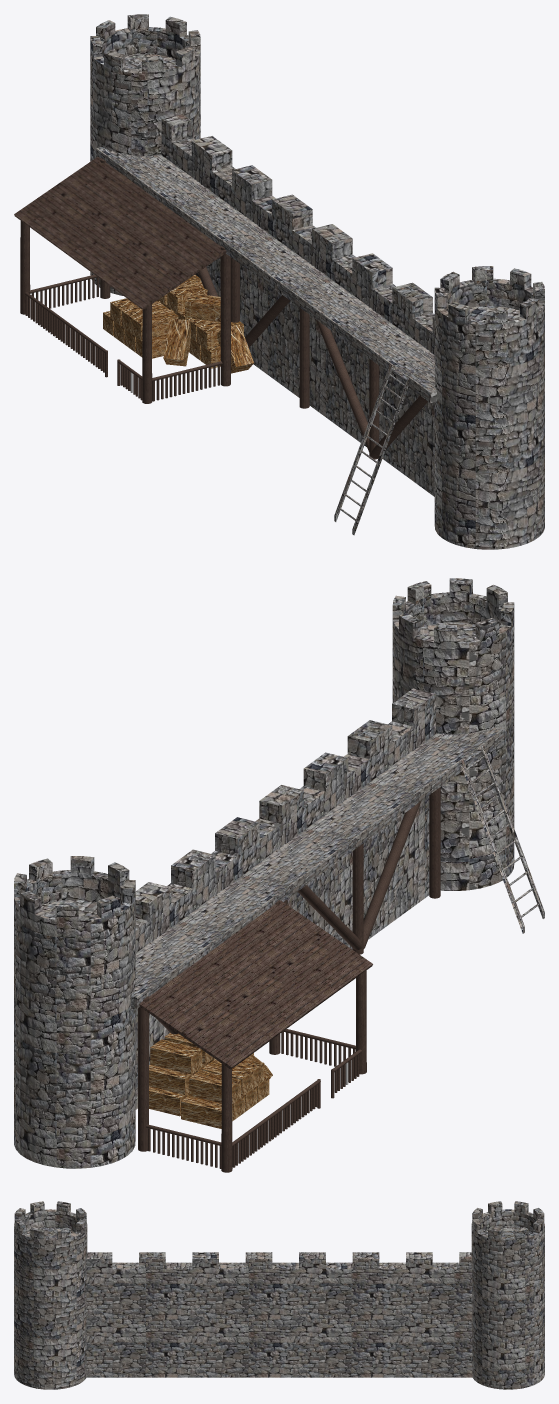
File: Muro2.obj
3 views of the same model, one above another, from view 1: azimuth 30°, elevation 25°; view 2: azimuth 150°, elevation 25°; view 3: azimuth 270°, elevation 25° (orthographic). The views are drawn at different scales.
Visible parts, largest first — view 1: Cylinder.000_Cylinder.007, Plane, Cylinder.009_Cylinder.019, Cylinder.006_Cylinder.016, Cube.022_Cube.024, Cylinder.002_Cylinder.012, Cylinder.012_Cylinder.022, Cube.014_Cube.016, Cube.008_Cube.009, Cylinder.011_Cylinder.023, Cylinder.003_Cylinder.013, Cube.019_Cube.021 (+3 smaller); view 2: Cylinder.000_Cylinder.007, Plane, Cylinder.005_Cylinder.015, Cylinder.010_Cylinder.020, Cube.012_Cube.014, Cylinder.004_Cylinder.014, Cylinder.011_Cylinder.023, Cylinder.003_Cylinder.013, Cube.021_Cube.023, Cube.015_Cube.017, Cylinder.012_Cylinder.022, Cylinder.006_Cylinder.016 (+2 smaller); view 3: Cylinder.000_Cylinder.007.
Boxes of the visible parts, x1=… form: Cylinder.000_Cylinder.007: x1=90, y1=14, x2=544, y2=549; Plane: x1=14, y1=157, x2=226, y2=309; Cylinder.009_Cylinder.019: x1=220, y1=246, x2=230, y2=386; Cylinder.006_Cylinder.016: x1=315, y1=319, x2=371, y2=455; Cube.022_Cube.024: x1=163, y1=318, x2=190, y2=366; Cylinder.002_Cylinder.012: x1=299, y1=308, x2=309, y2=408; Cylinder.012_Cylinder.022: x1=142, y1=304, x2=152, y2=403; Cube.014_Cube.016: x1=185, y1=293, x2=220, y2=322; Cube.008_Cube.009: x1=217, y1=324, x2=253, y2=373; Cylinder.011_Cylinder.023: x1=20, y1=221, x2=30, y2=314; Cylinder.003_Cylinder.013: x1=369, y1=359, x2=379, y2=459; Cube.019_Cube.021: x1=132, y1=308, x2=178, y2=340; Cylinder.000_Cylinder.007: x1=14, y1=578, x2=544, y2=1168; Plane: x1=139, y1=900, x2=372, y2=1069; Cylinder.005_Cylinder.015: x1=363, y1=801, x2=420, y2=948; Cylinder.010_Cylinder.020: x1=138, y1=996, x2=148, y2=1151; Cube.012_Cube.014: x1=150, y1=1039, x2=202, y2=1074; Cylinder.004_Cylinder.014: x1=429, y1=787, x2=440, y2=898; Cylinder.011_Cylinder.023: x1=221, y1=1063, x2=232, y2=1172; Cylinder.003_Cylinder.013: x1=352, y1=843, x2=363, y2=954; Cube.021_Cube.023: x1=189, y1=1070, x2=241, y2=1103; Cube.015_Cube.017: x1=181, y1=1095, x2=233, y2=1128; Cylinder.012_Cylinder.022: x1=356, y1=970, x2=366, y2=1074; Cylinder.006_Cylinder.016: x1=297, y1=885, x2=364, y2=949; Cylinder.000_Cylinder.007: x1=14, y1=1201, x2=544, y2=1389.
Bounding box in the file's own units: 3.87 × 4.8 × 14.45.
6 materials, 5 textured.
